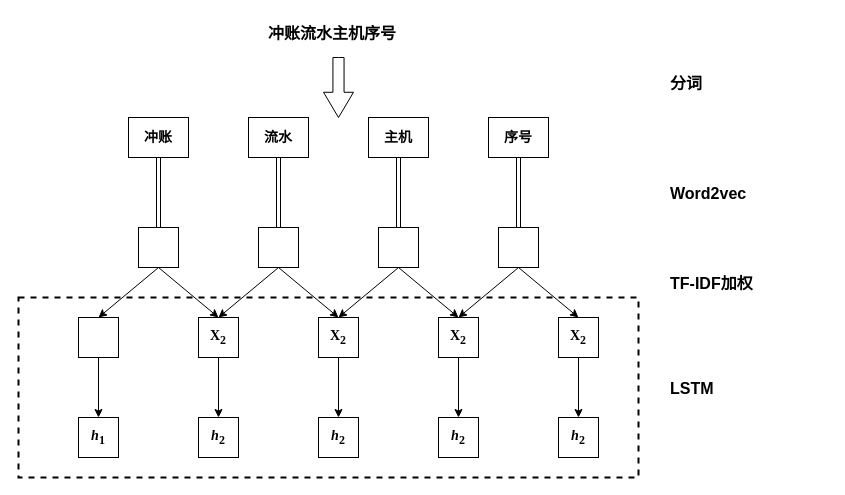
The diagram is 845 pixels wide and 495 high, and some of its shapes have lost their labels. Each missing label, with the centre of its shape:
v 1: point 158,247
v 2: point 278,247
v 3: point 398,247
v 4: point 518,247
X 1: point 98,337
